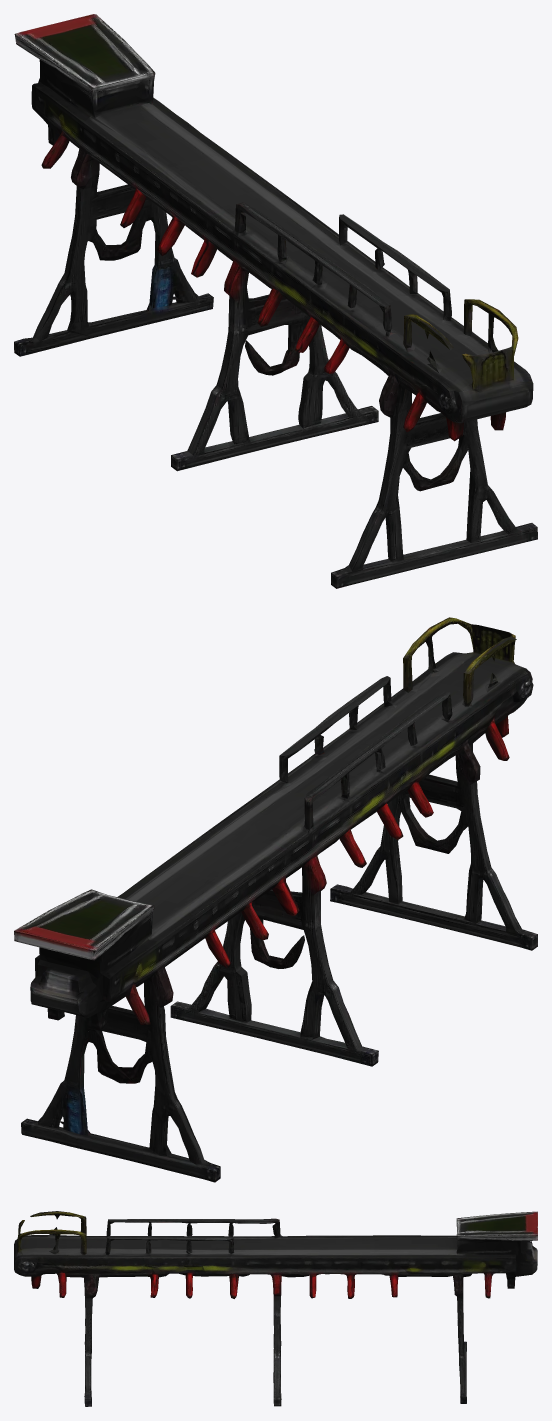
Rendered from belt_conveyor.glb.
3 renders of one model, top to bottom at view 1: azimuth 30°, elevation 25°; view 2: azimuth 150°, elevation 25°; view 3: azimuth 270°, elevation 25°, orthographic. The views are drawn at different scales.
Visible parts, largest first — view 1: geometry_0; view 2: geometry_0; view 3: geometry_0.
Part boxes in pixels (box(x1,y1,x2,y2)): geometry_0: box(14, 14, 537, 588); geometry_0: box(14, 617, 537, 1182); geometry_0: box(14, 1211, 537, 1406).
Size of the model in its own units: 0.2637 by 0.3311 by 0.9995.
Materials: 1 (1 with a texture image).
